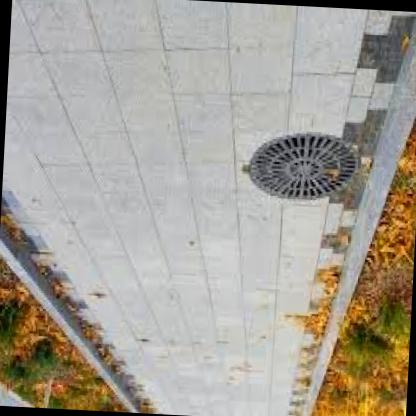manholes: (232, 106, 372, 222)
